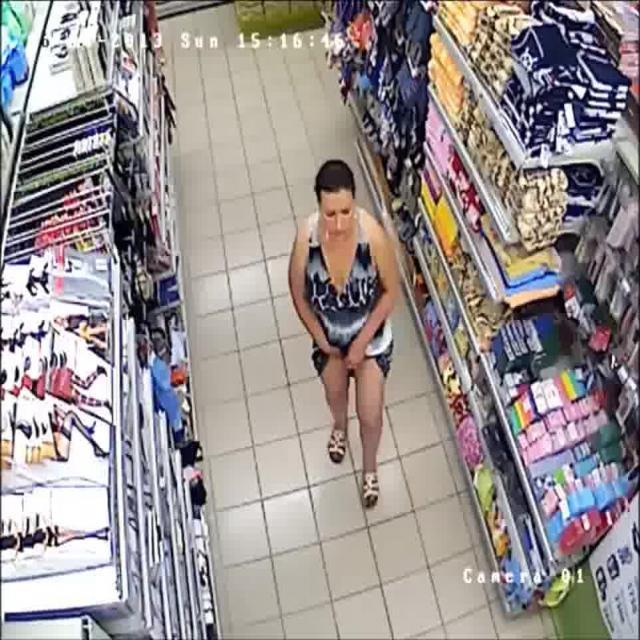Shoplifting: (277, 147, 405, 520)
